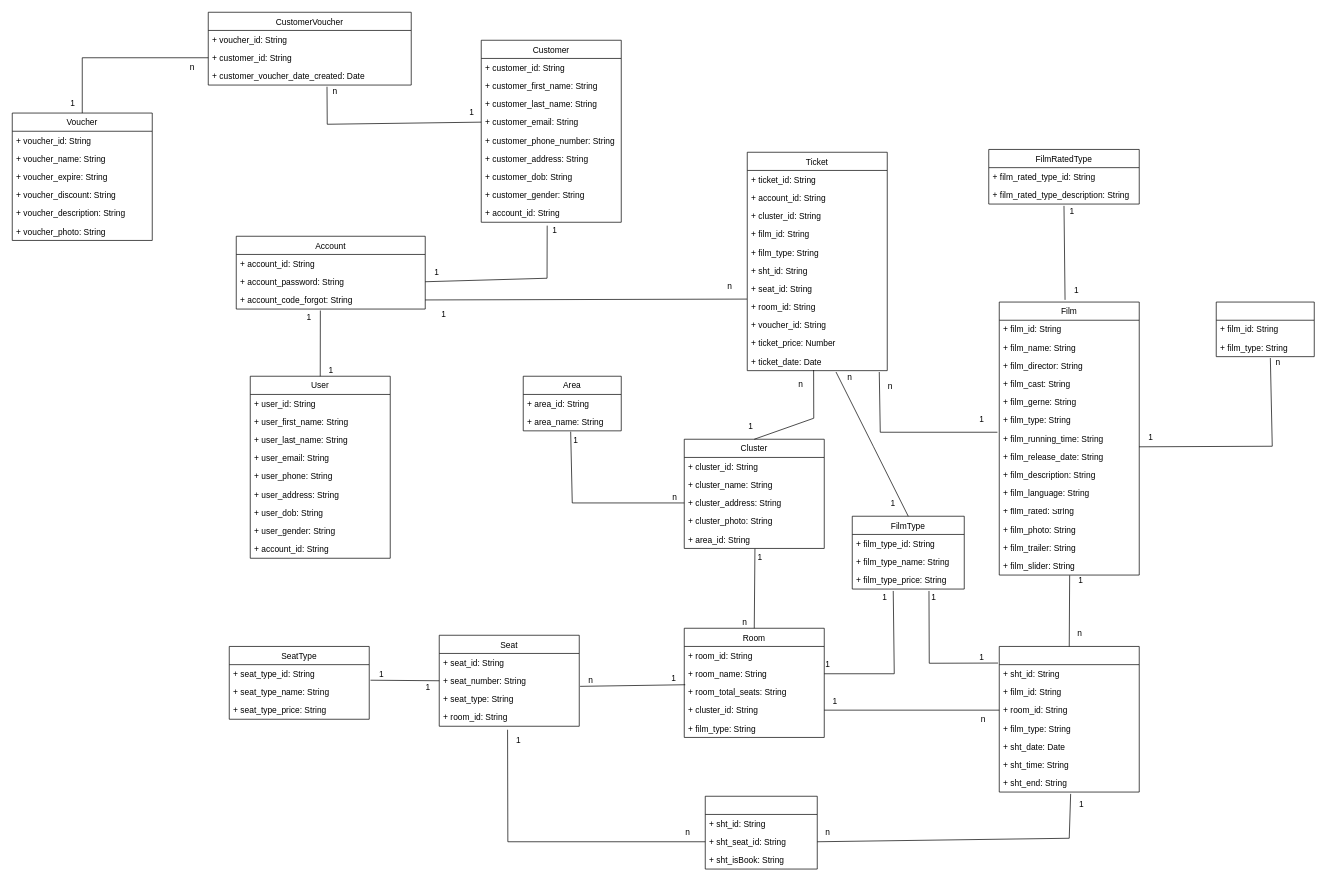
Image size: 1327x883. Some labels were removed from this diagram. The box of each missing label's shape, as (x1, y1, x2, y2) in pixels:
FilmChoice: (1216, 301, 1314, 357)
ShowTime: (999, 646, 1139, 792)
ShowTimeSeat: (705, 796, 817, 869)
